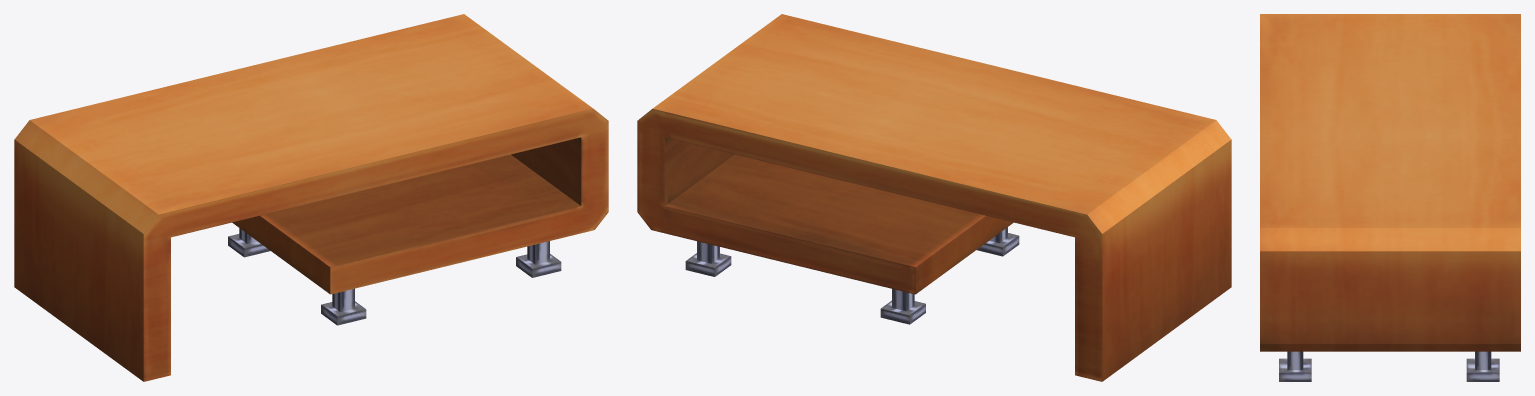
The model's file is tea_table_02.DAE.
The picture shows the model from 3 angles, left to right: view 1: azimuth 30°, elevation 25°; view 2: azimuth 150°, elevation 25°; view 3: azimuth 270°, elevation 25°; orthographic projection.
Parts seen in each view (by area): view 1: Tea_table_02; view 2: Tea_table_02; view 3: Tea_table_02.
Boxes of the visible parts, box(x1,y1,x2,y2) form: Tea_table_02: box(14, 14, 608, 381); Tea_table_02: box(637, 14, 1231, 381); Tea_table_02: box(1260, 14, 1520, 381).
Size of the model in its own units: 208 by 69.9 by 100.
